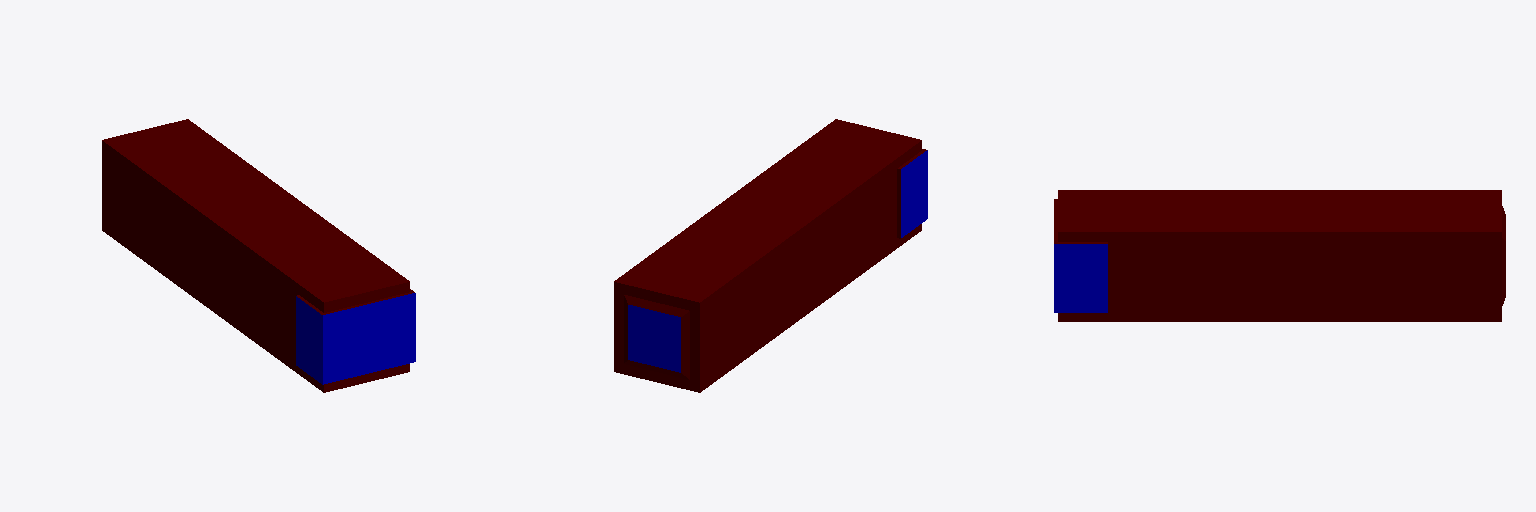
File: Ship_Inside.obj
3 views of the same model, side by side, from view 1: azimuth 30°, elevation 25°; view 2: azimuth 150°, elevation 25°; view 3: azimuth 270°, elevation 25° (orthographic).
Visible parts, largest first — view 1: Ship_Inside_Cube.002; view 2: Ship_Inside_Cube.002; view 3: Ship_Inside_Cube.002.
Part boxes in pixels (x1,y1,x2,y2): Ship_Inside_Cube.002: (102, 119, 415, 392); Ship_Inside_Cube.002: (614, 119, 927, 392); Ship_Inside_Cube.002: (1054, 190, 1505, 321).
Bounding box in the file's own units: 2.8 × 2.6 × 11.8.